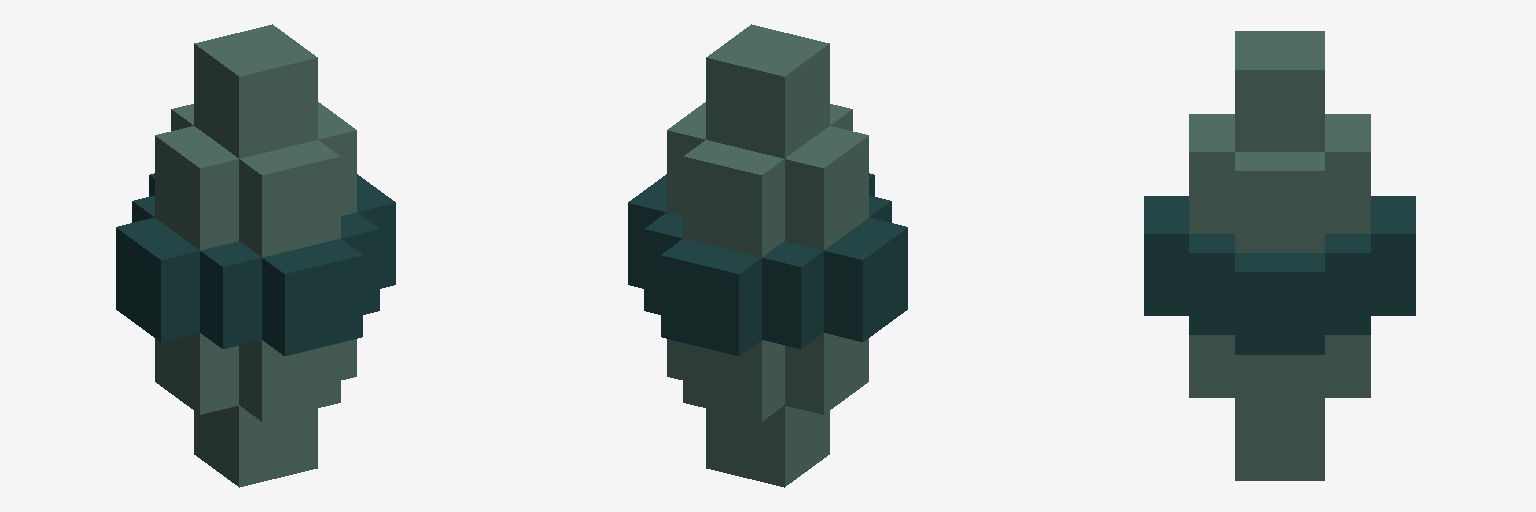
File: Crystal_Small.obj
3 renders of one model, left to right at view 1: azimuth 30°, elevation 25°; view 2: azimuth 150°, elevation 25°; view 3: azimuth 270°, elevation 25°, orthographic.
Bounding box in the file's own units: 0.15 × 0.25 × 0.15.